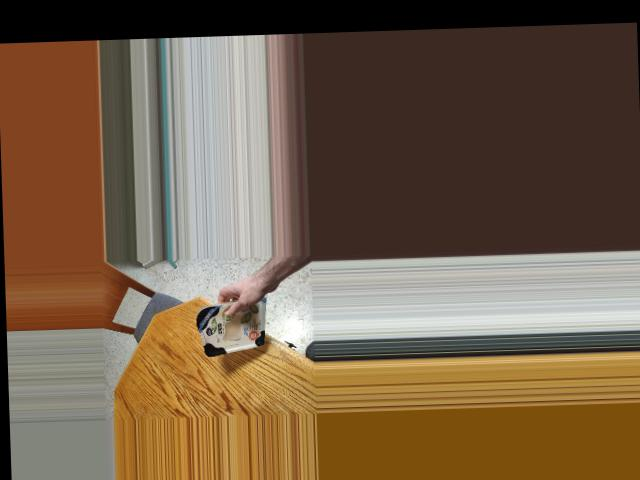cheese: (192, 298, 283, 355)
